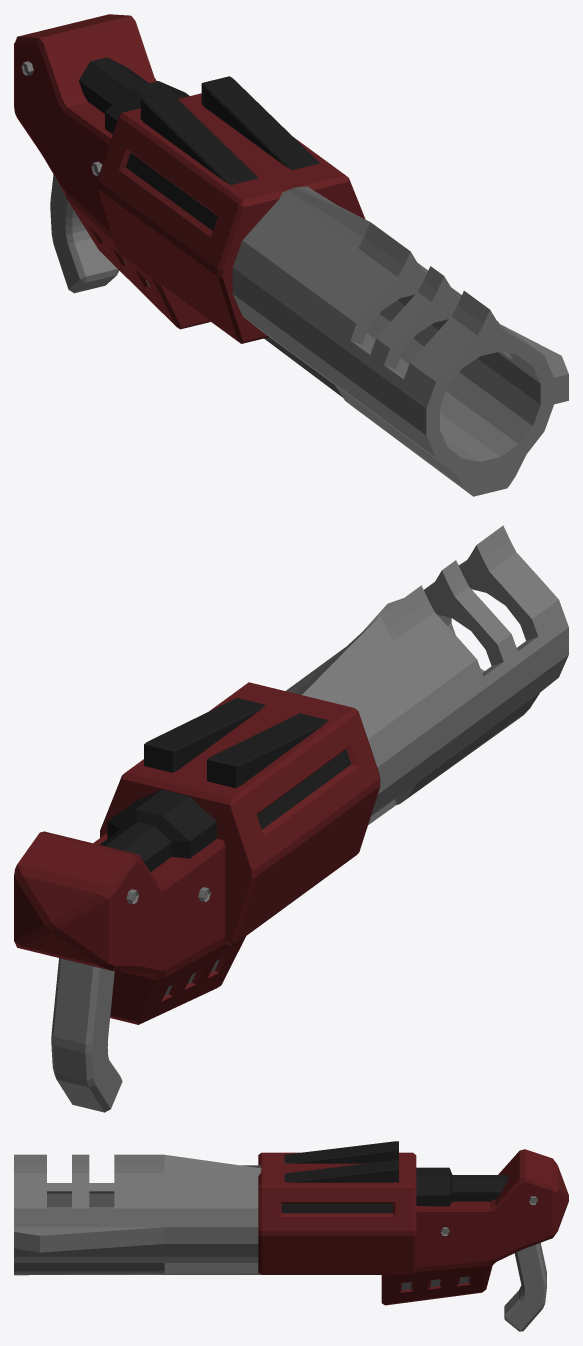
The model's file is RocketLauncher.fbx.
The picture shows the model from 3 angles, top to bottom: view 1: azimuth 30°, elevation 25°; view 2: azimuth 150°, elevation 25°; view 3: azimuth 270°, elevation 25°; orthographic projection. The views are drawn at different scales.
Visible parts, largest first — view 1: RocketLauncher; view 2: RocketLauncher; view 3: RocketLauncher.
Boxes of the visible parts, bbox=[...] form: RocketLauncher: bbox=[14, 14, 568, 496]; RocketLauncher: bbox=[14, 525, 568, 1112]; RocketLauncher: bbox=[14, 1141, 568, 1331].
Size of the model in its own units: 0.3852 by 0.5954 by 1.74.
